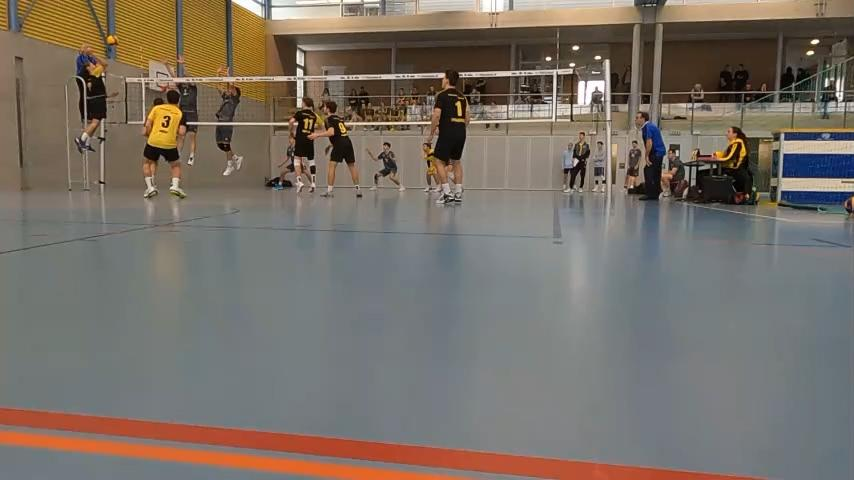Attack: (70, 46, 112, 155)
Block: (161, 52, 202, 171), (211, 62, 247, 176)
Player: (427, 70, 469, 204), (309, 101, 362, 197), (289, 97, 321, 192), (366, 142, 404, 190), (273, 137, 294, 189), (422, 143, 440, 192)
ball: (105, 33, 119, 47)
